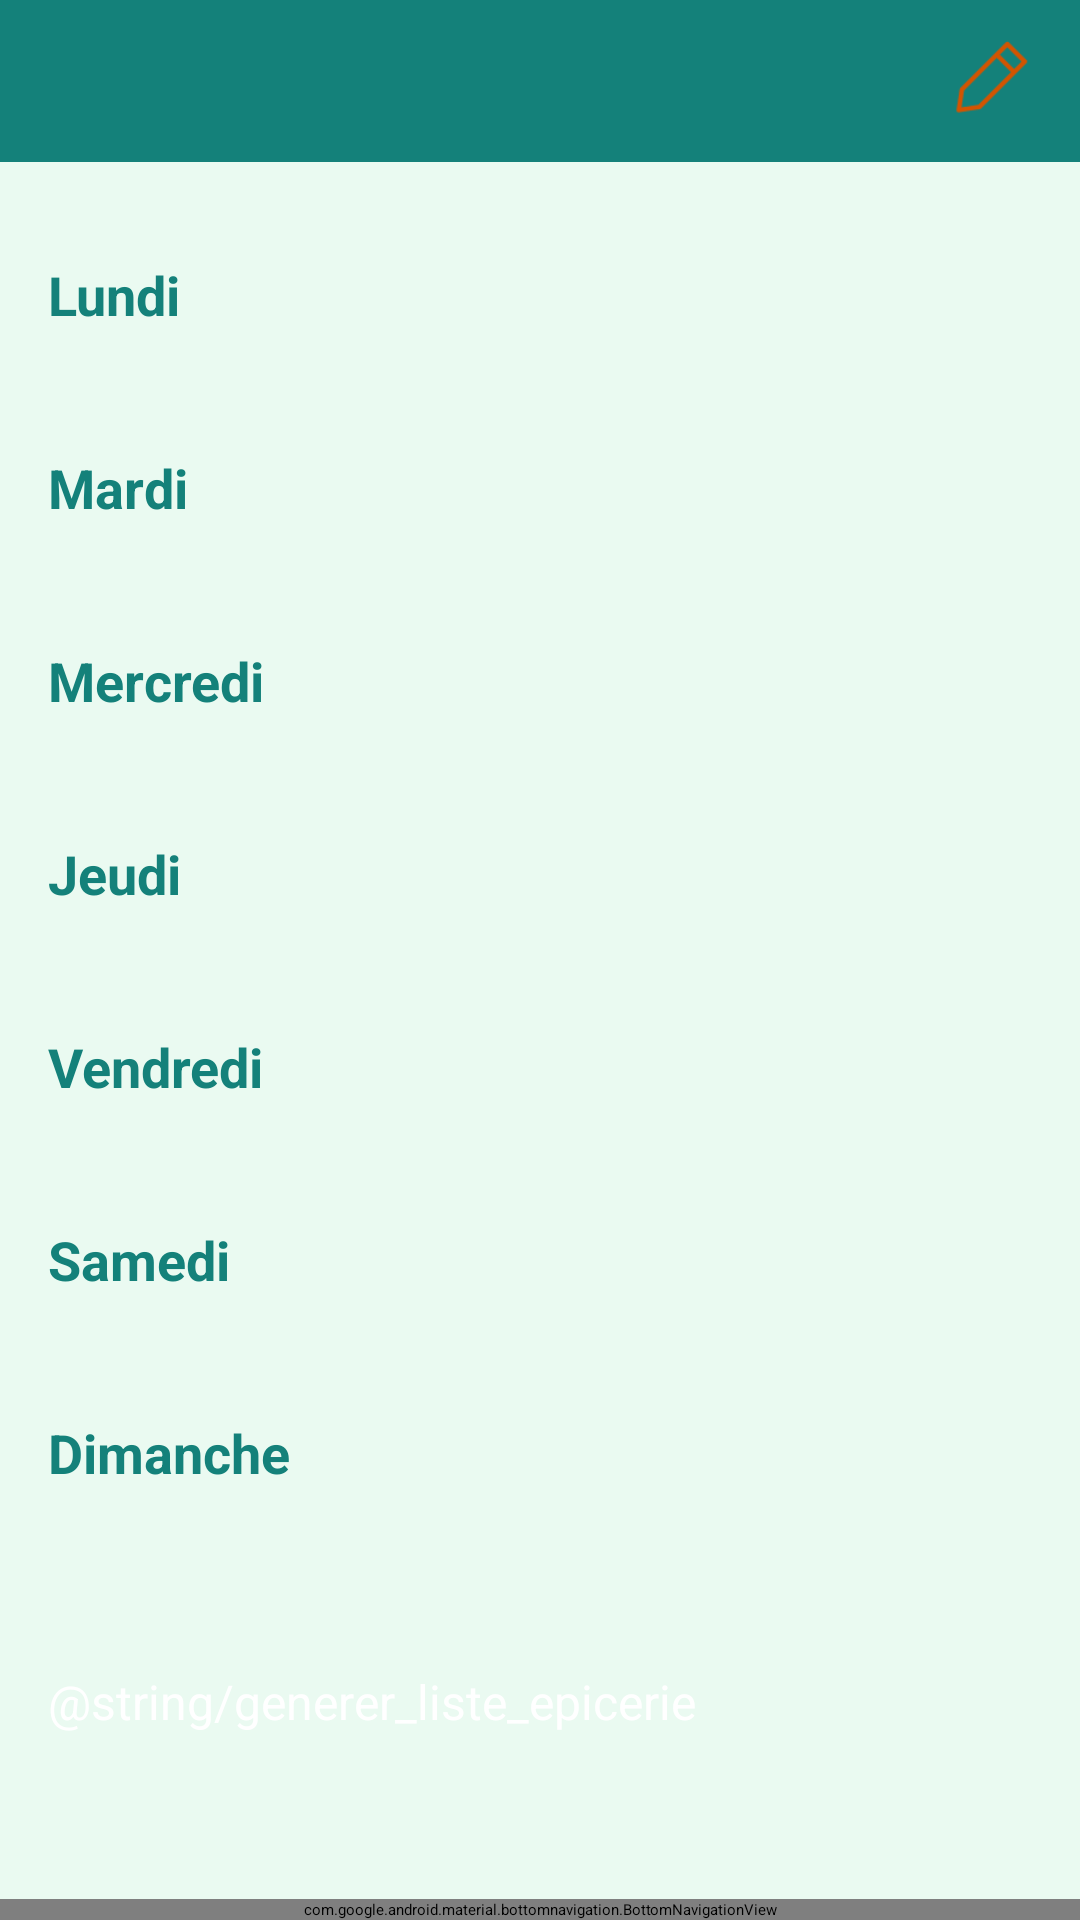

Icon bounding boxes for this 1080px x 1920px phone screenshot, format (x1, y1, x2, y2):
edit: (956, 41, 1028, 113)
